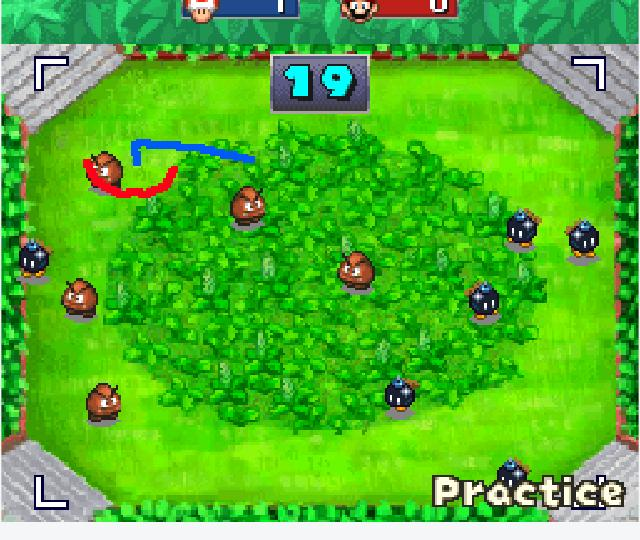bomb: (498, 206, 547, 256), (560, 215, 605, 268), (459, 278, 505, 329), (13, 235, 52, 288), (381, 373, 425, 418), (490, 454, 537, 494)
goomba: (333, 245, 381, 301), (225, 181, 274, 235), (80, 378, 126, 431), (82, 148, 129, 198), (58, 274, 103, 324)
